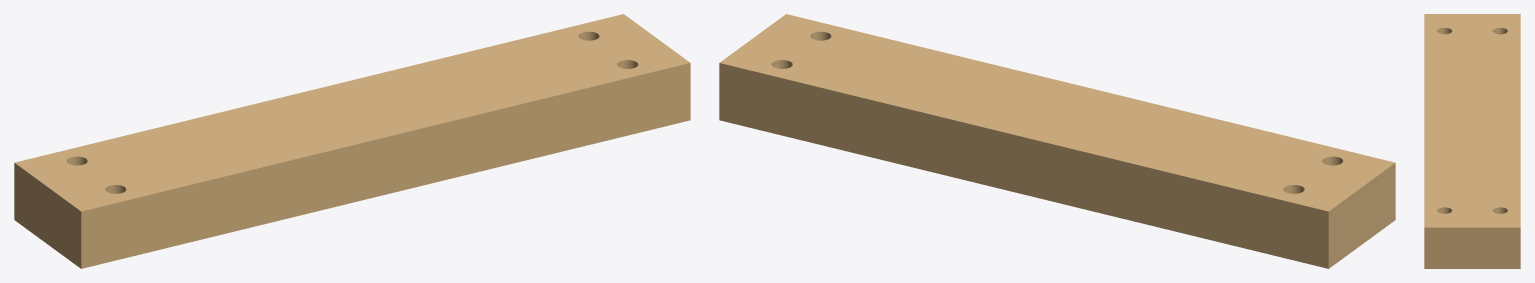
3 renders of one model, left to right at view 1: azimuth 30°, elevation 25°; view 2: azimuth 150°, elevation 25°; view 3: azimuth 270°, elevation 25°, orthographic. The views are drawn at different scales.
Visible parts, largest first — view 1: seat; view 2: seat; view 3: seat.
Boxes of the visible parts, x1,y1,x2,y2 form: seat: (14, 14, 690, 268); seat: (719, 14, 1395, 268); seat: (1424, 14, 1520, 268).
Size of the model in its own units: 500 by 45 by 95.
